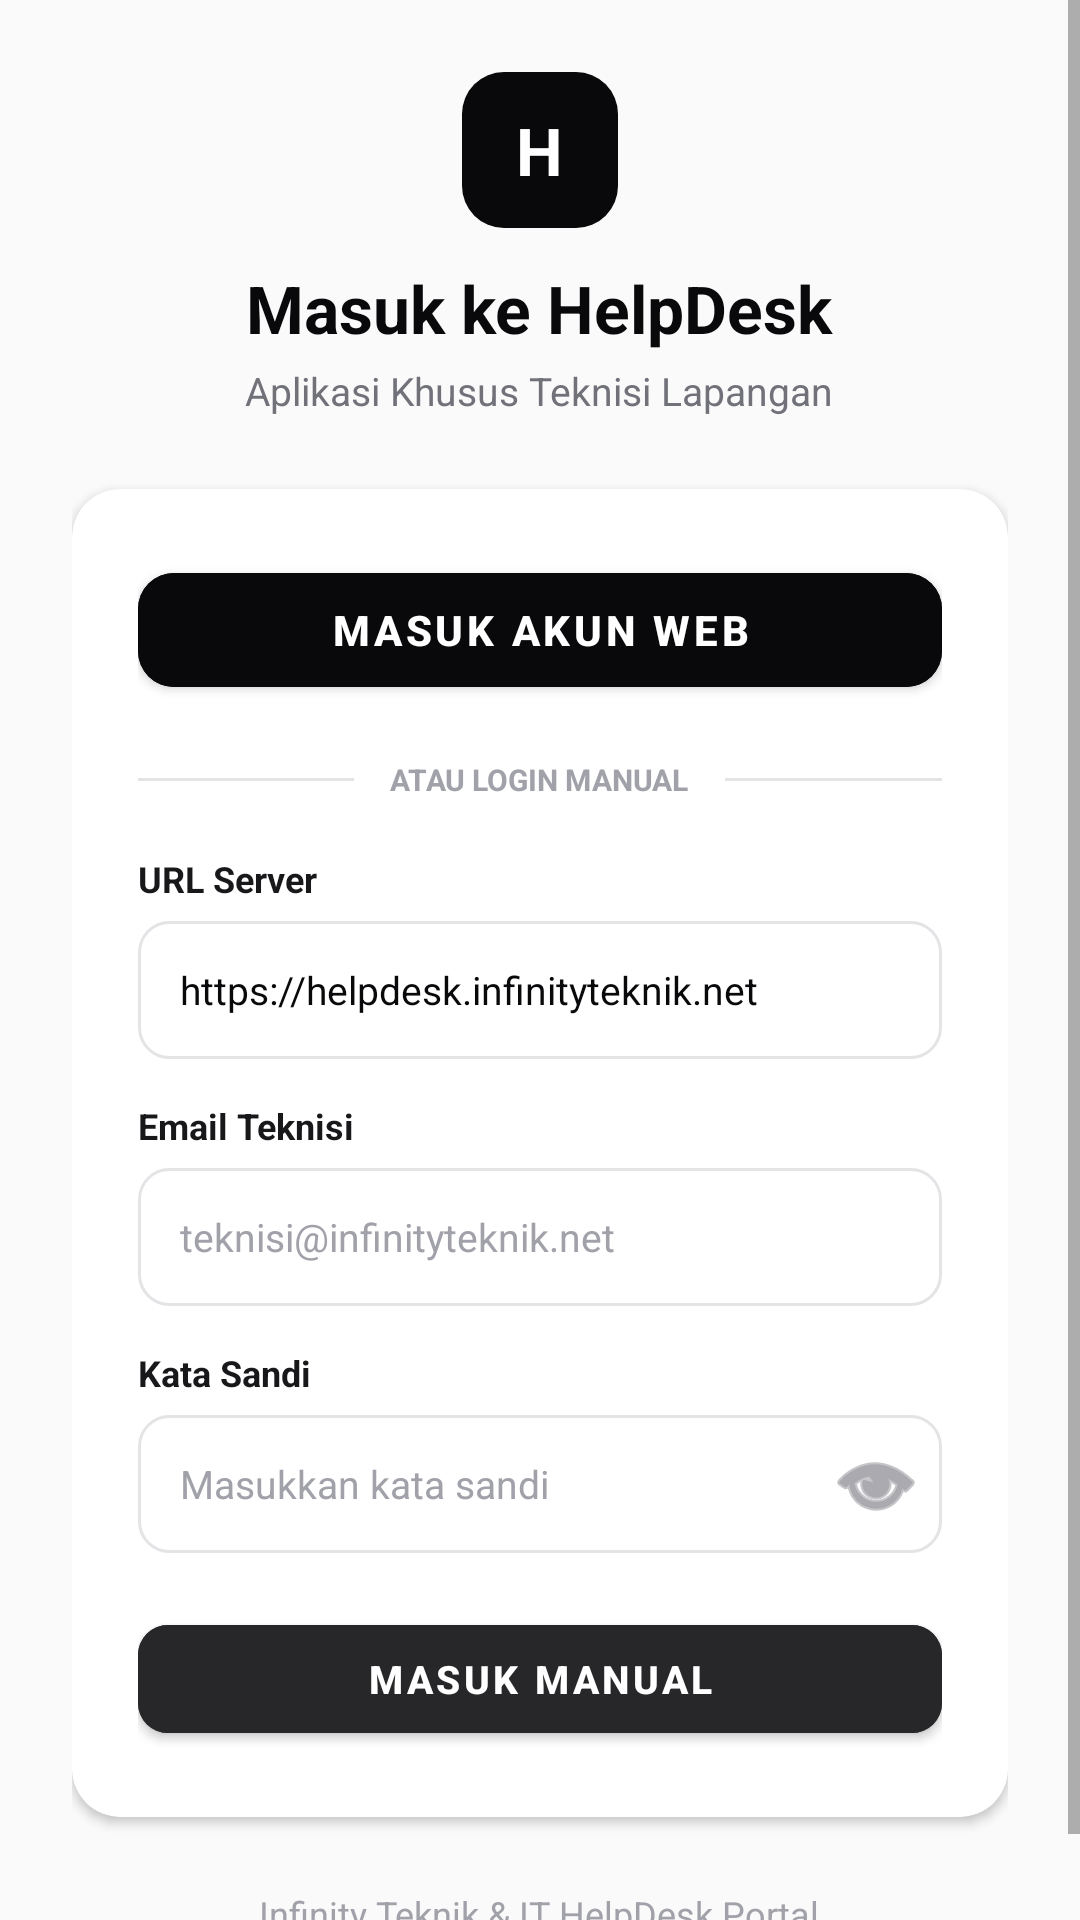

Where icons sit on this 1080x1920 app screen, as (x1, y1, x2, y2):
Toggle password: (837, 1462, 915, 1511)
